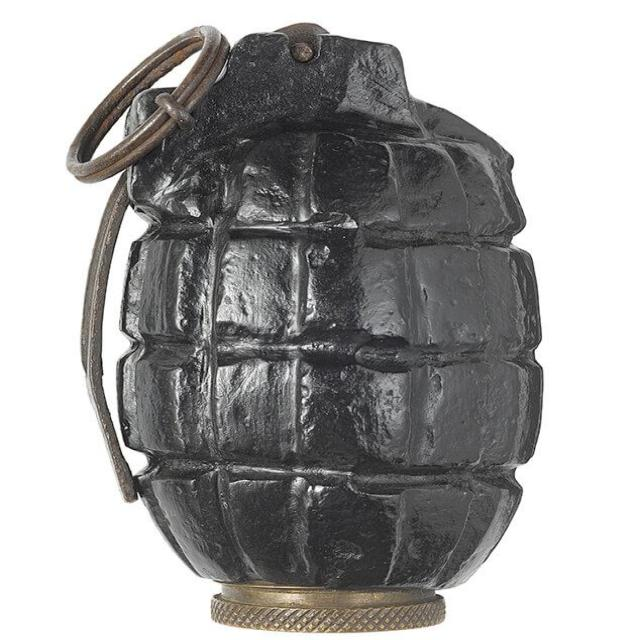grenade: (67, 23, 546, 635)
